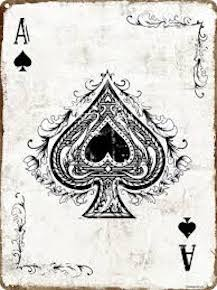AceOfSpades: (2, 4, 215, 290)
